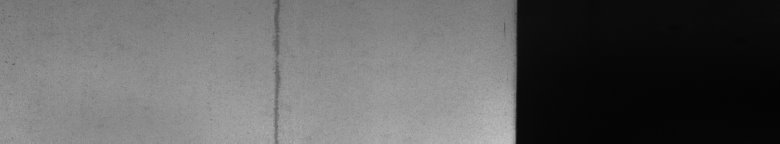hd: (268, 4, 285, 136)
